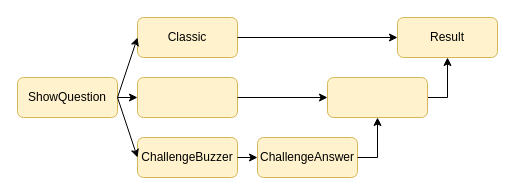
Some shapes in this 515 by 195 pixel diagram are drawn without their labels. Here are the shapes that lost their labels. From the top down, the centre of each, then its label:
(187,97): Single
(377,97): Validation
